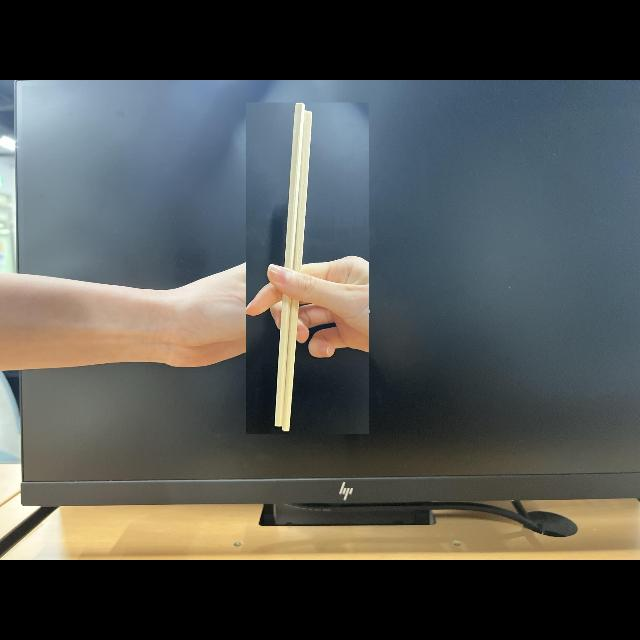stick: (246, 102, 368, 434)
